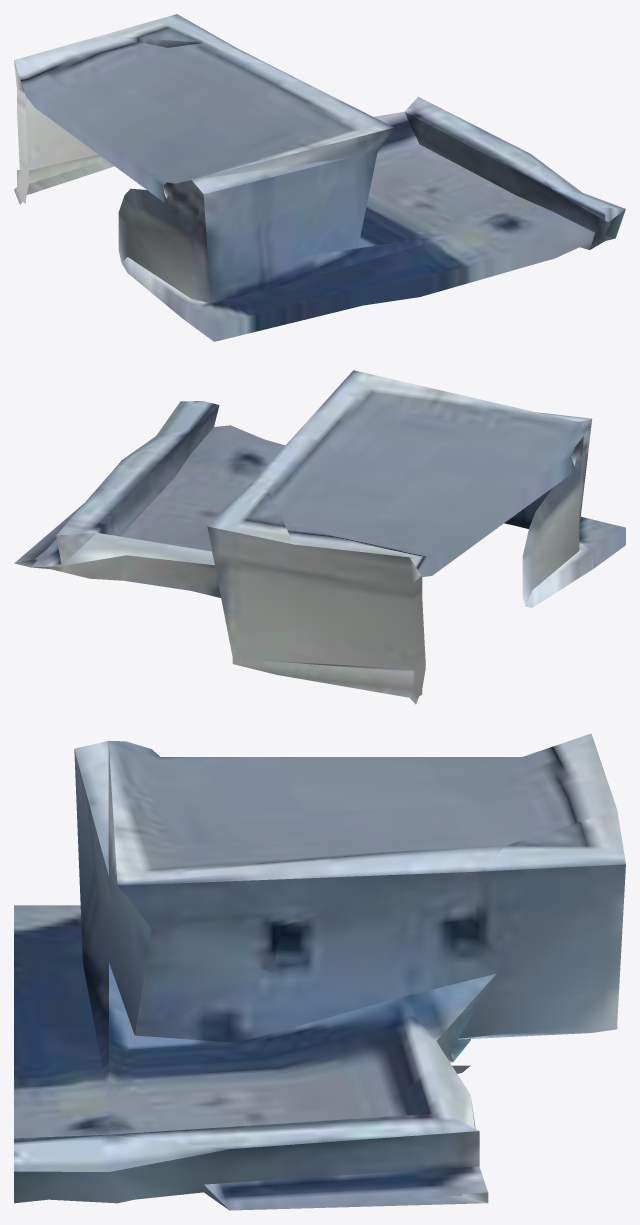
The picture shows the model from 3 angles, top to bottom: view 1: azimuth 30°, elevation 25°; view 2: azimuth 150°, elevation 25°; view 3: azimuth 270°, elevation 25°; orthographic projection. The views are drawn at different scales.
Parts seen in each view (by area): view 1: 30436272704361717443_0; view 2: 30436272704361717443_0; view 3: 30436272704361717443_0.
Boxes of the visible parts, <box> form: 30436272704361717443_0: <box>14,14,625,341</box>; 30436272704361717443_0: <box>14,370,625,704</box>; 30436272704361717443_0: <box>14,733,625,1210</box>.
Size of the model in its own units: 12.28 by 4.01 by 10.95.
Materials: 1 (1 with a texture image).
